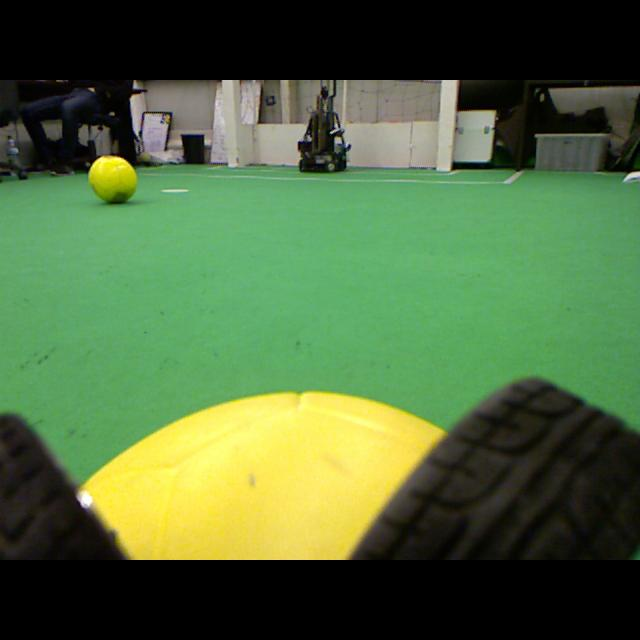ball: (80, 393, 448, 559), (88, 156, 138, 204)
goal: (438, 80, 457, 171), (223, 80, 238, 167)
robot: (297, 80, 352, 172)
